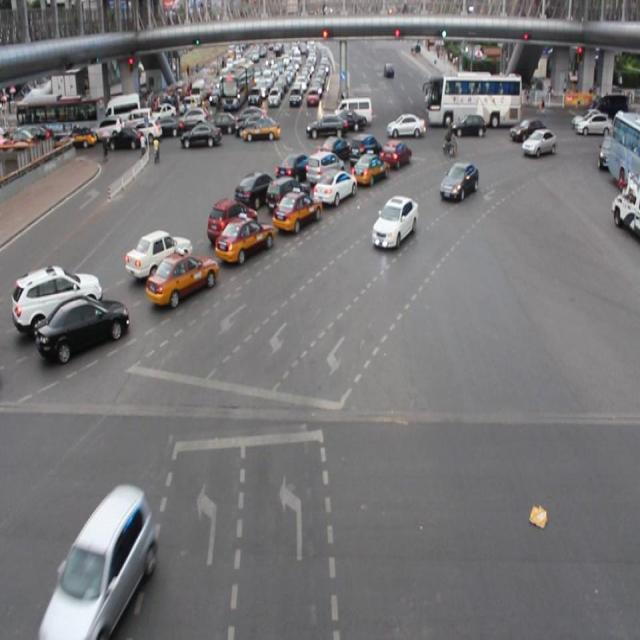car: (33, 294, 135, 366), (0, 264, 106, 332), (141, 250, 223, 308), (122, 228, 195, 282), (369, 190, 420, 253), (213, 215, 278, 261), (267, 186, 323, 236), (202, 195, 261, 242), (264, 168, 312, 218), (308, 162, 358, 208), (438, 158, 482, 204), (303, 144, 348, 187), (231, 172, 280, 210), (272, 150, 318, 190), (348, 149, 391, 190), (344, 129, 385, 167), (516, 130, 559, 166), (376, 133, 412, 174), (315, 131, 356, 166)
truck: (42, 475, 162, 640)
